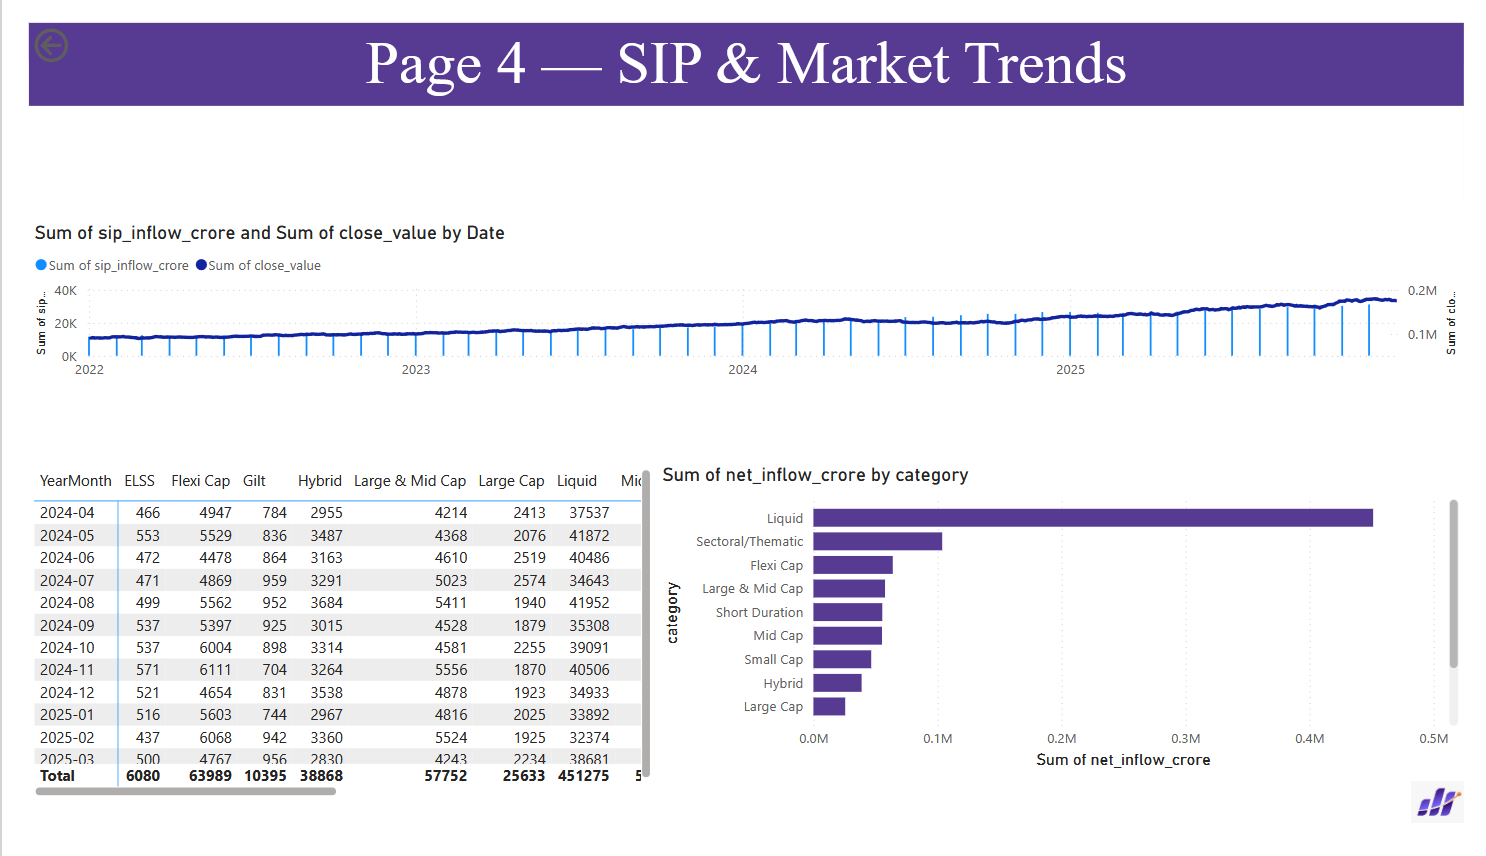

The dashboard page shown, as its layout file describes it:
{"tool":"powerbi","page":{"name":"Page 4","canvas":[1280,720],"ordinal":3},"visuals":[{"type":"textbox","box":[0,0,1280,73.8],"z":0},{"type":"lineClusteredColumnComboChart","fields":{"Category":["DateTable.Date"],"Y":["Sum(fact_sip.sip_inflow_crore)"],"Y2":["Sum(dim_benchmark.close_value)"]},"box":[0,177,1280,150],"z":1},{"type":"pivotTable","fields":{"Rows":["DateTable.YearMonth"],"Columns":["fact_category_inflows.category"],"Values":["Sum(fact_category_inflows.net_inflow_crore)"]},"box":[0,392.5,560,302.5],"z":2},{"type":"clusteredBarChart","fields":{"Y":["Sum(fact_category_inflows.net_inflow_crore)"],"Category":["fact_category_inflows.category"]},"box":[560,392.5,720,277.5],"z":3},{"type":"actionButton","box":[0,0,100,40],"z":4},{"type":"image","box":[1232.5,670,47.5,50],"z":5}]}

Visuals, with their boxes in screenshot pixels (x1, y1, x2, y2), scaled from the page's 1280x720 canvas onto the 1486x856 screenshot:
textbox: bbox(0, 0, 1485, 88)
lineClusteredColumnComboChart - DateTable.Date x Sum(fact_sip.sip_inflow_crore): bbox(0, 210, 1485, 389)
pivotTable - DateTable.YearMonth x fact_category_inflows.category: bbox(0, 467, 650, 826)
clusteredBarChart - Sum(fact_category_inflows.net_inflow_crore) x fact_category_inflows.category: bbox(650, 467, 1485, 797)
actionButton: bbox(0, 0, 116, 48)
image: bbox(1431, 797, 1485, 855)
